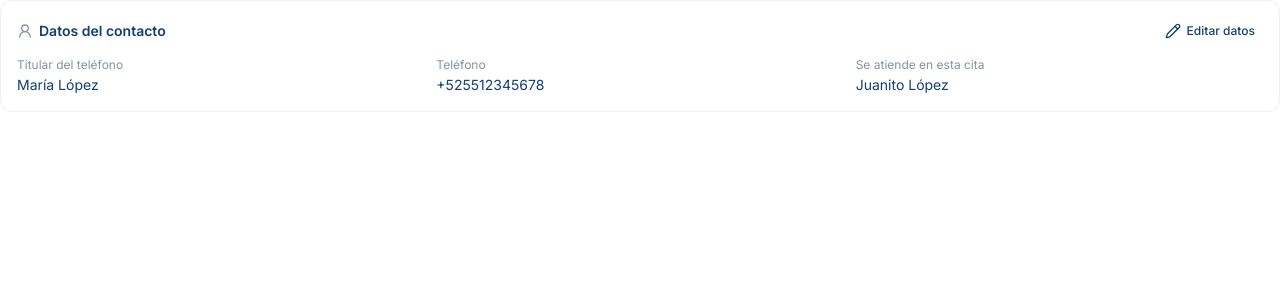
Test: PatientContactSection › guarda con la Edge Function solo lo que cambió y refresca las vistas
Later steps or results of the test are not shown.
Step 1. Click the button "Editar datos" → (1210, 31), box [1157,17,1263,45]
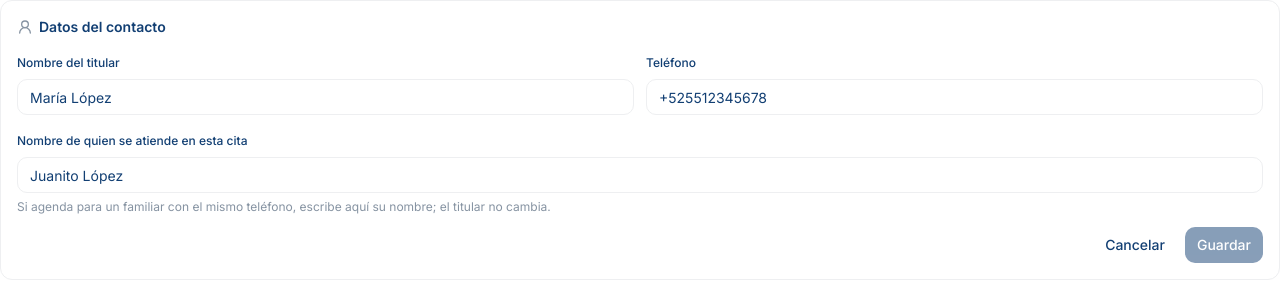
Check: the button "Guardar" is disabled, box [1185,227,1263,263]
